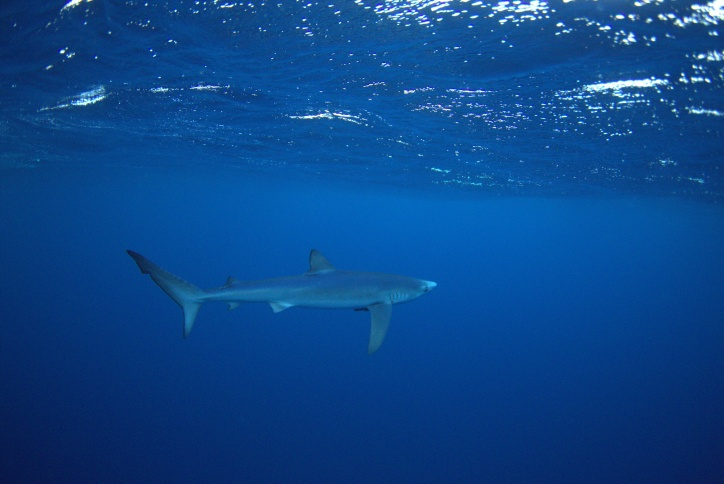Azul: (93, 225, 459, 359)
